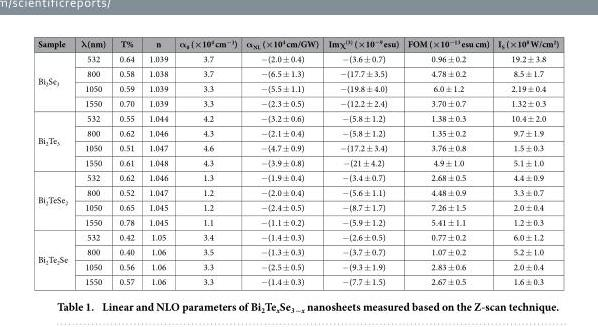table: (37, 37, 558, 287)
table column: (402, 37, 493, 287), (241, 37, 322, 287), (322, 37, 402, 287), (173, 37, 241, 287), (493, 37, 558, 287), (73, 37, 112, 287), (37, 37, 73, 287), (140, 37, 173, 287), (112, 37, 140, 287)
table column header: (37, 37, 558, 51)
table row: (37, 65, 558, 80), (37, 80, 558, 95), (37, 95, 558, 110), (37, 110, 558, 125), (37, 125, 558, 140), (37, 154, 558, 169), (37, 169, 558, 184), (37, 184, 558, 199), (37, 199, 558, 214), (37, 214, 558, 229), (37, 229, 558, 244), (37, 258, 558, 273), (37, 37, 558, 51), (37, 51, 558, 65), (37, 140, 558, 154), (37, 244, 558, 258), (37, 273, 558, 287)
table spanning cell: (37, 169, 73, 229), (37, 51, 73, 110), (37, 110, 73, 169), (37, 229, 73, 287)
